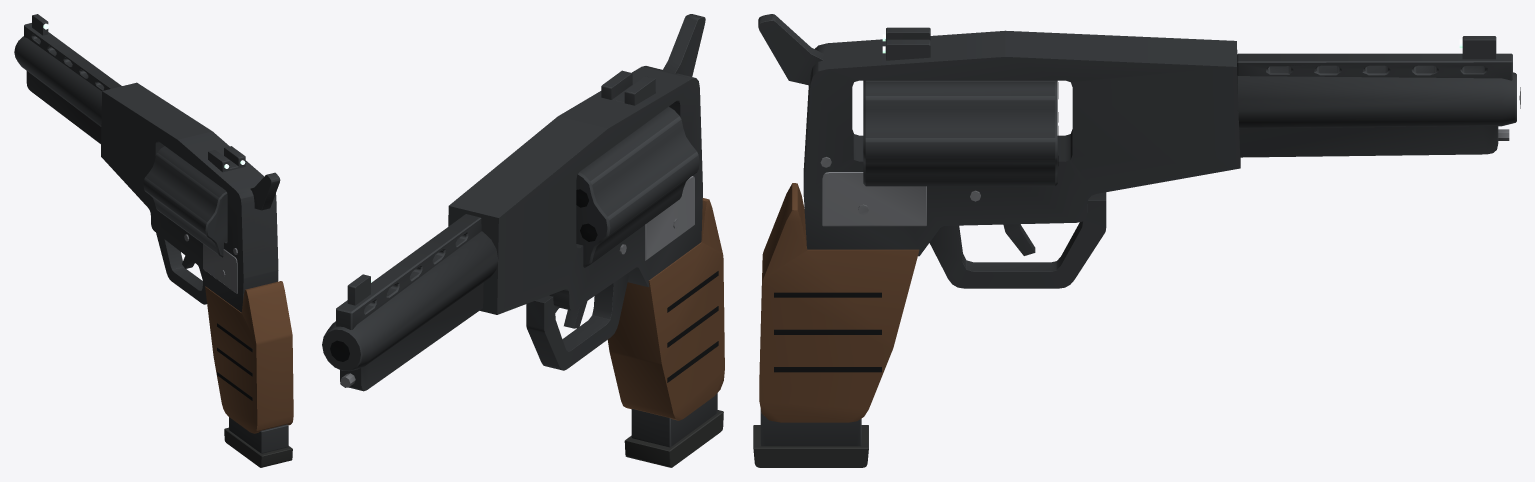
The model's file is revolver.glb.
The picture shows the model from 3 angles, left to right: view 1: azimuth 30°, elevation 25°; view 2: azimuth 150°, elevation 25°; view 3: azimuth 270°, elevation 25°; orthographic projection. The views are drawn at different scales.
Visible parts, largest first — view 1: Body, Cell, IronSight; view 2: Body, Cell, IronSight; view 3: Body, Cell, IronSight.
Boxes of the visible parts, <box> form: Body: <box>14,23,293,433</box>; Cell: <box>224,417,292,467</box>; IronSight: <box>32,14,245,172</box>; Body: <box>322,14,724,420</box>; Cell: <box>624,393,723,467</box>; IronSight: <box>347,70,655,305</box>; Body: <box>758,14,1520,422</box>; Cell: <box>753,409,868,467</box>; IronSight: <box>882,27,1496,65</box>.
Bounding box in the file's own units: 0.067 × 0.2597 × 0.411.
